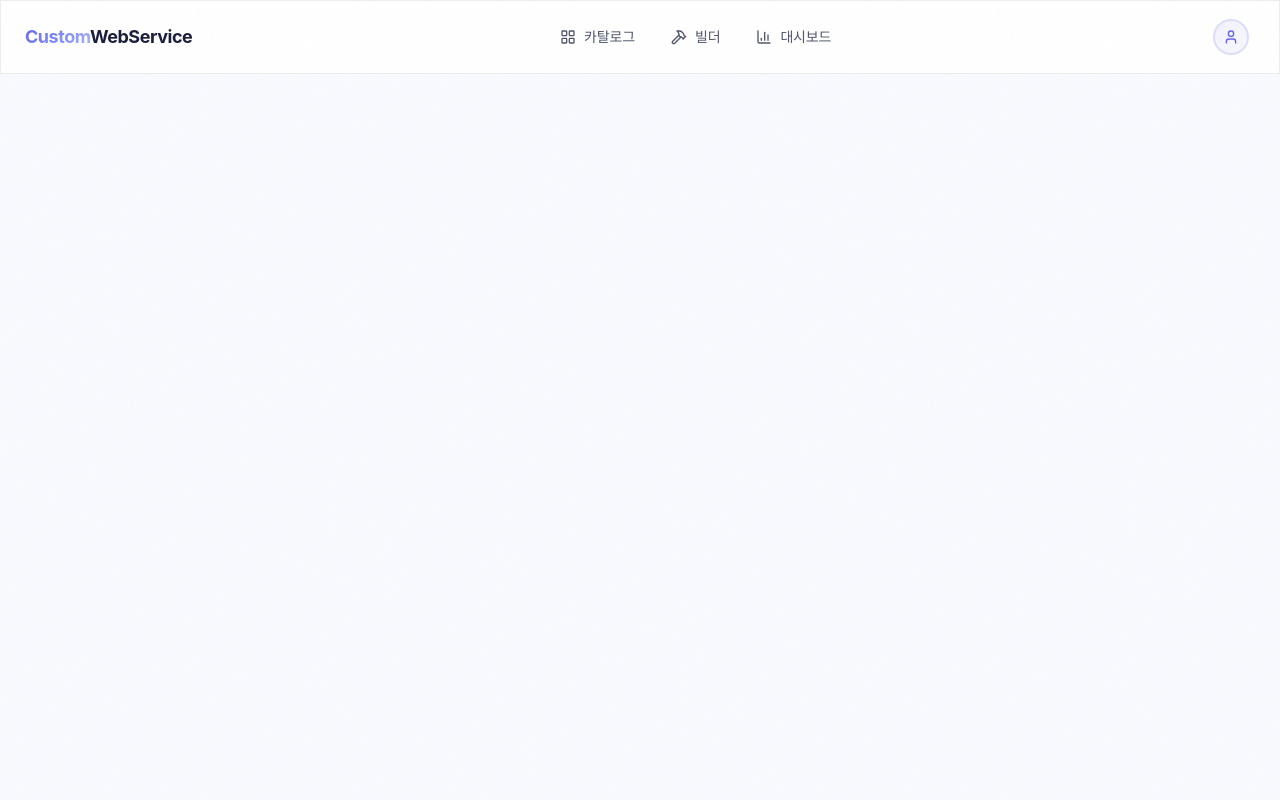
Test case: Header › 드롭다운 외부 클릭 닫기 › 드롭다운이 열린 상태에서 외부 mousedown 이벤트 발생 시 드롭다운이 닫힌다
아바타 버튼 클릭으로 드롭다운 열기
Click the button at (1231, 37), box [1207, 13, 1255, 61]
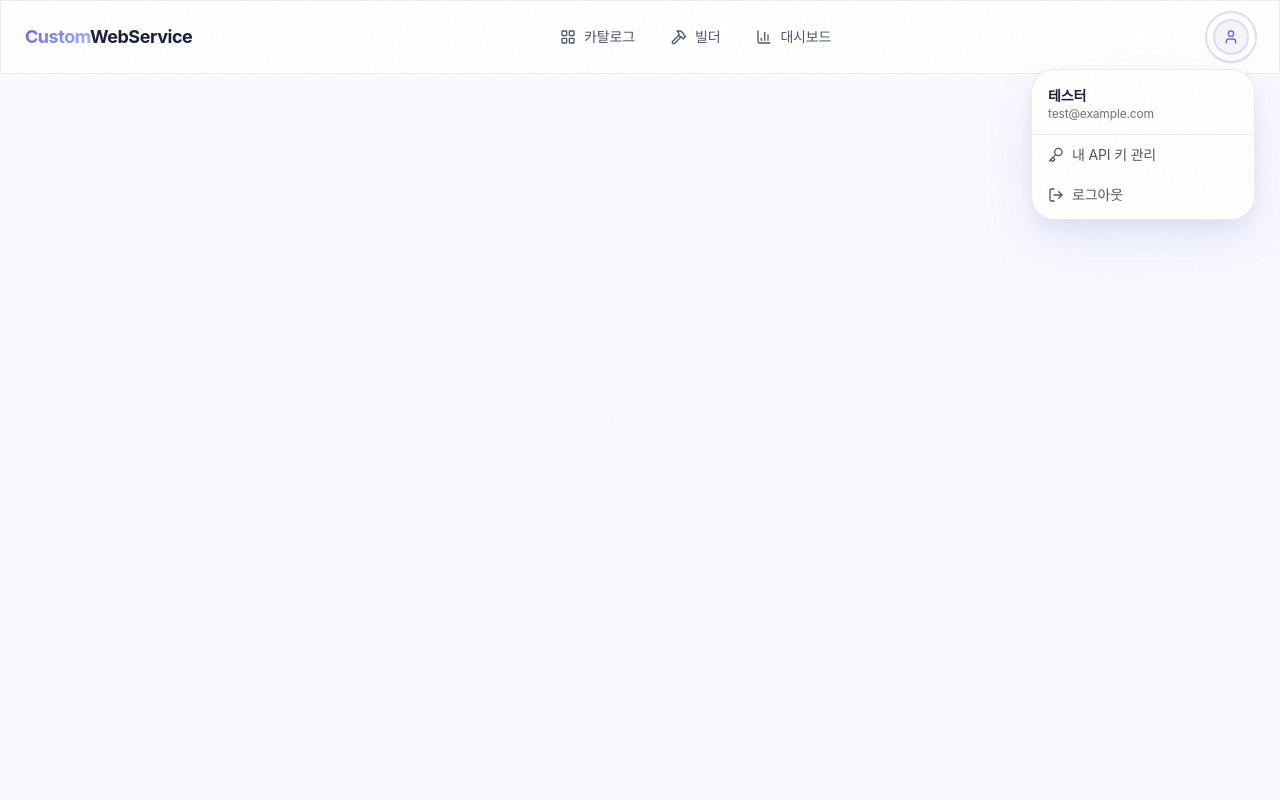
Now the button "로그아웃" is shown, box [1032, 175, 1254, 215]
Press the mouse on the element that starts with "Custom" at (640, 400), box [0, 0, 1279, 799]
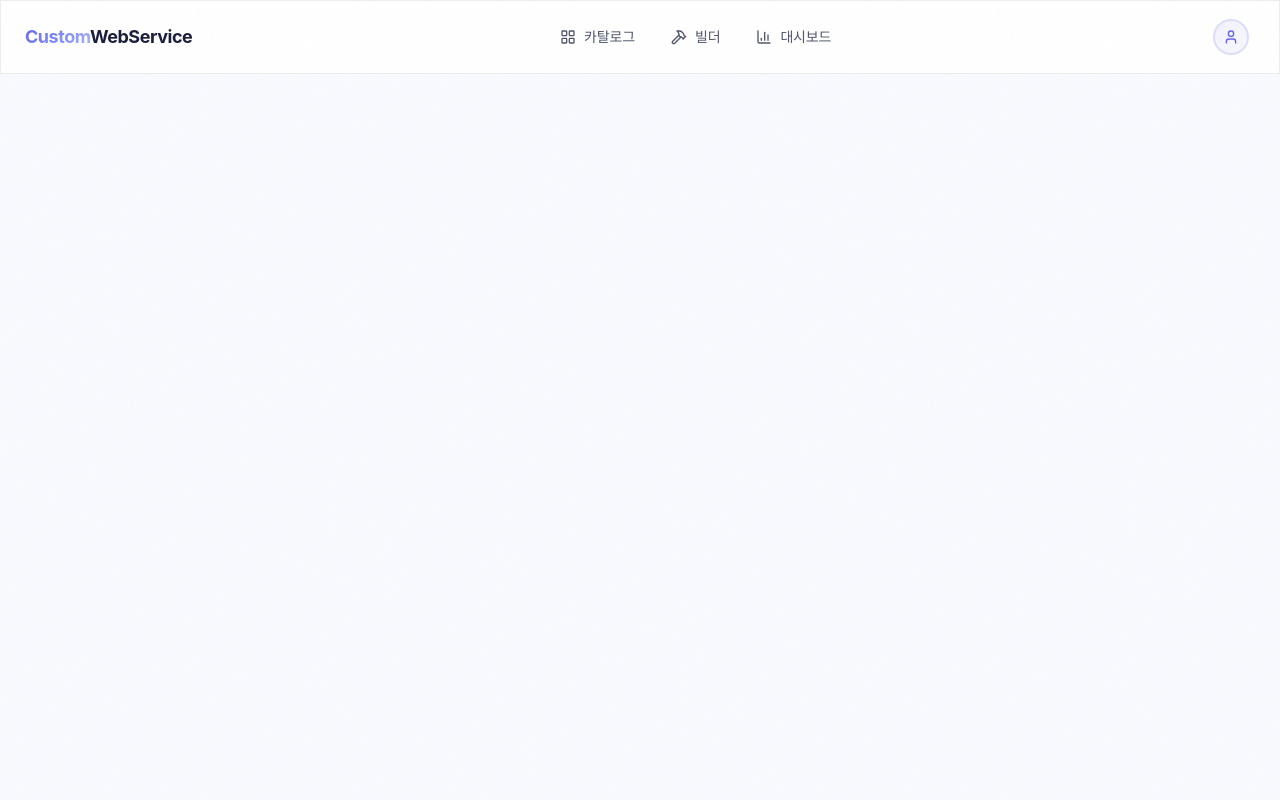
Now the button "로그아웃" is gone
